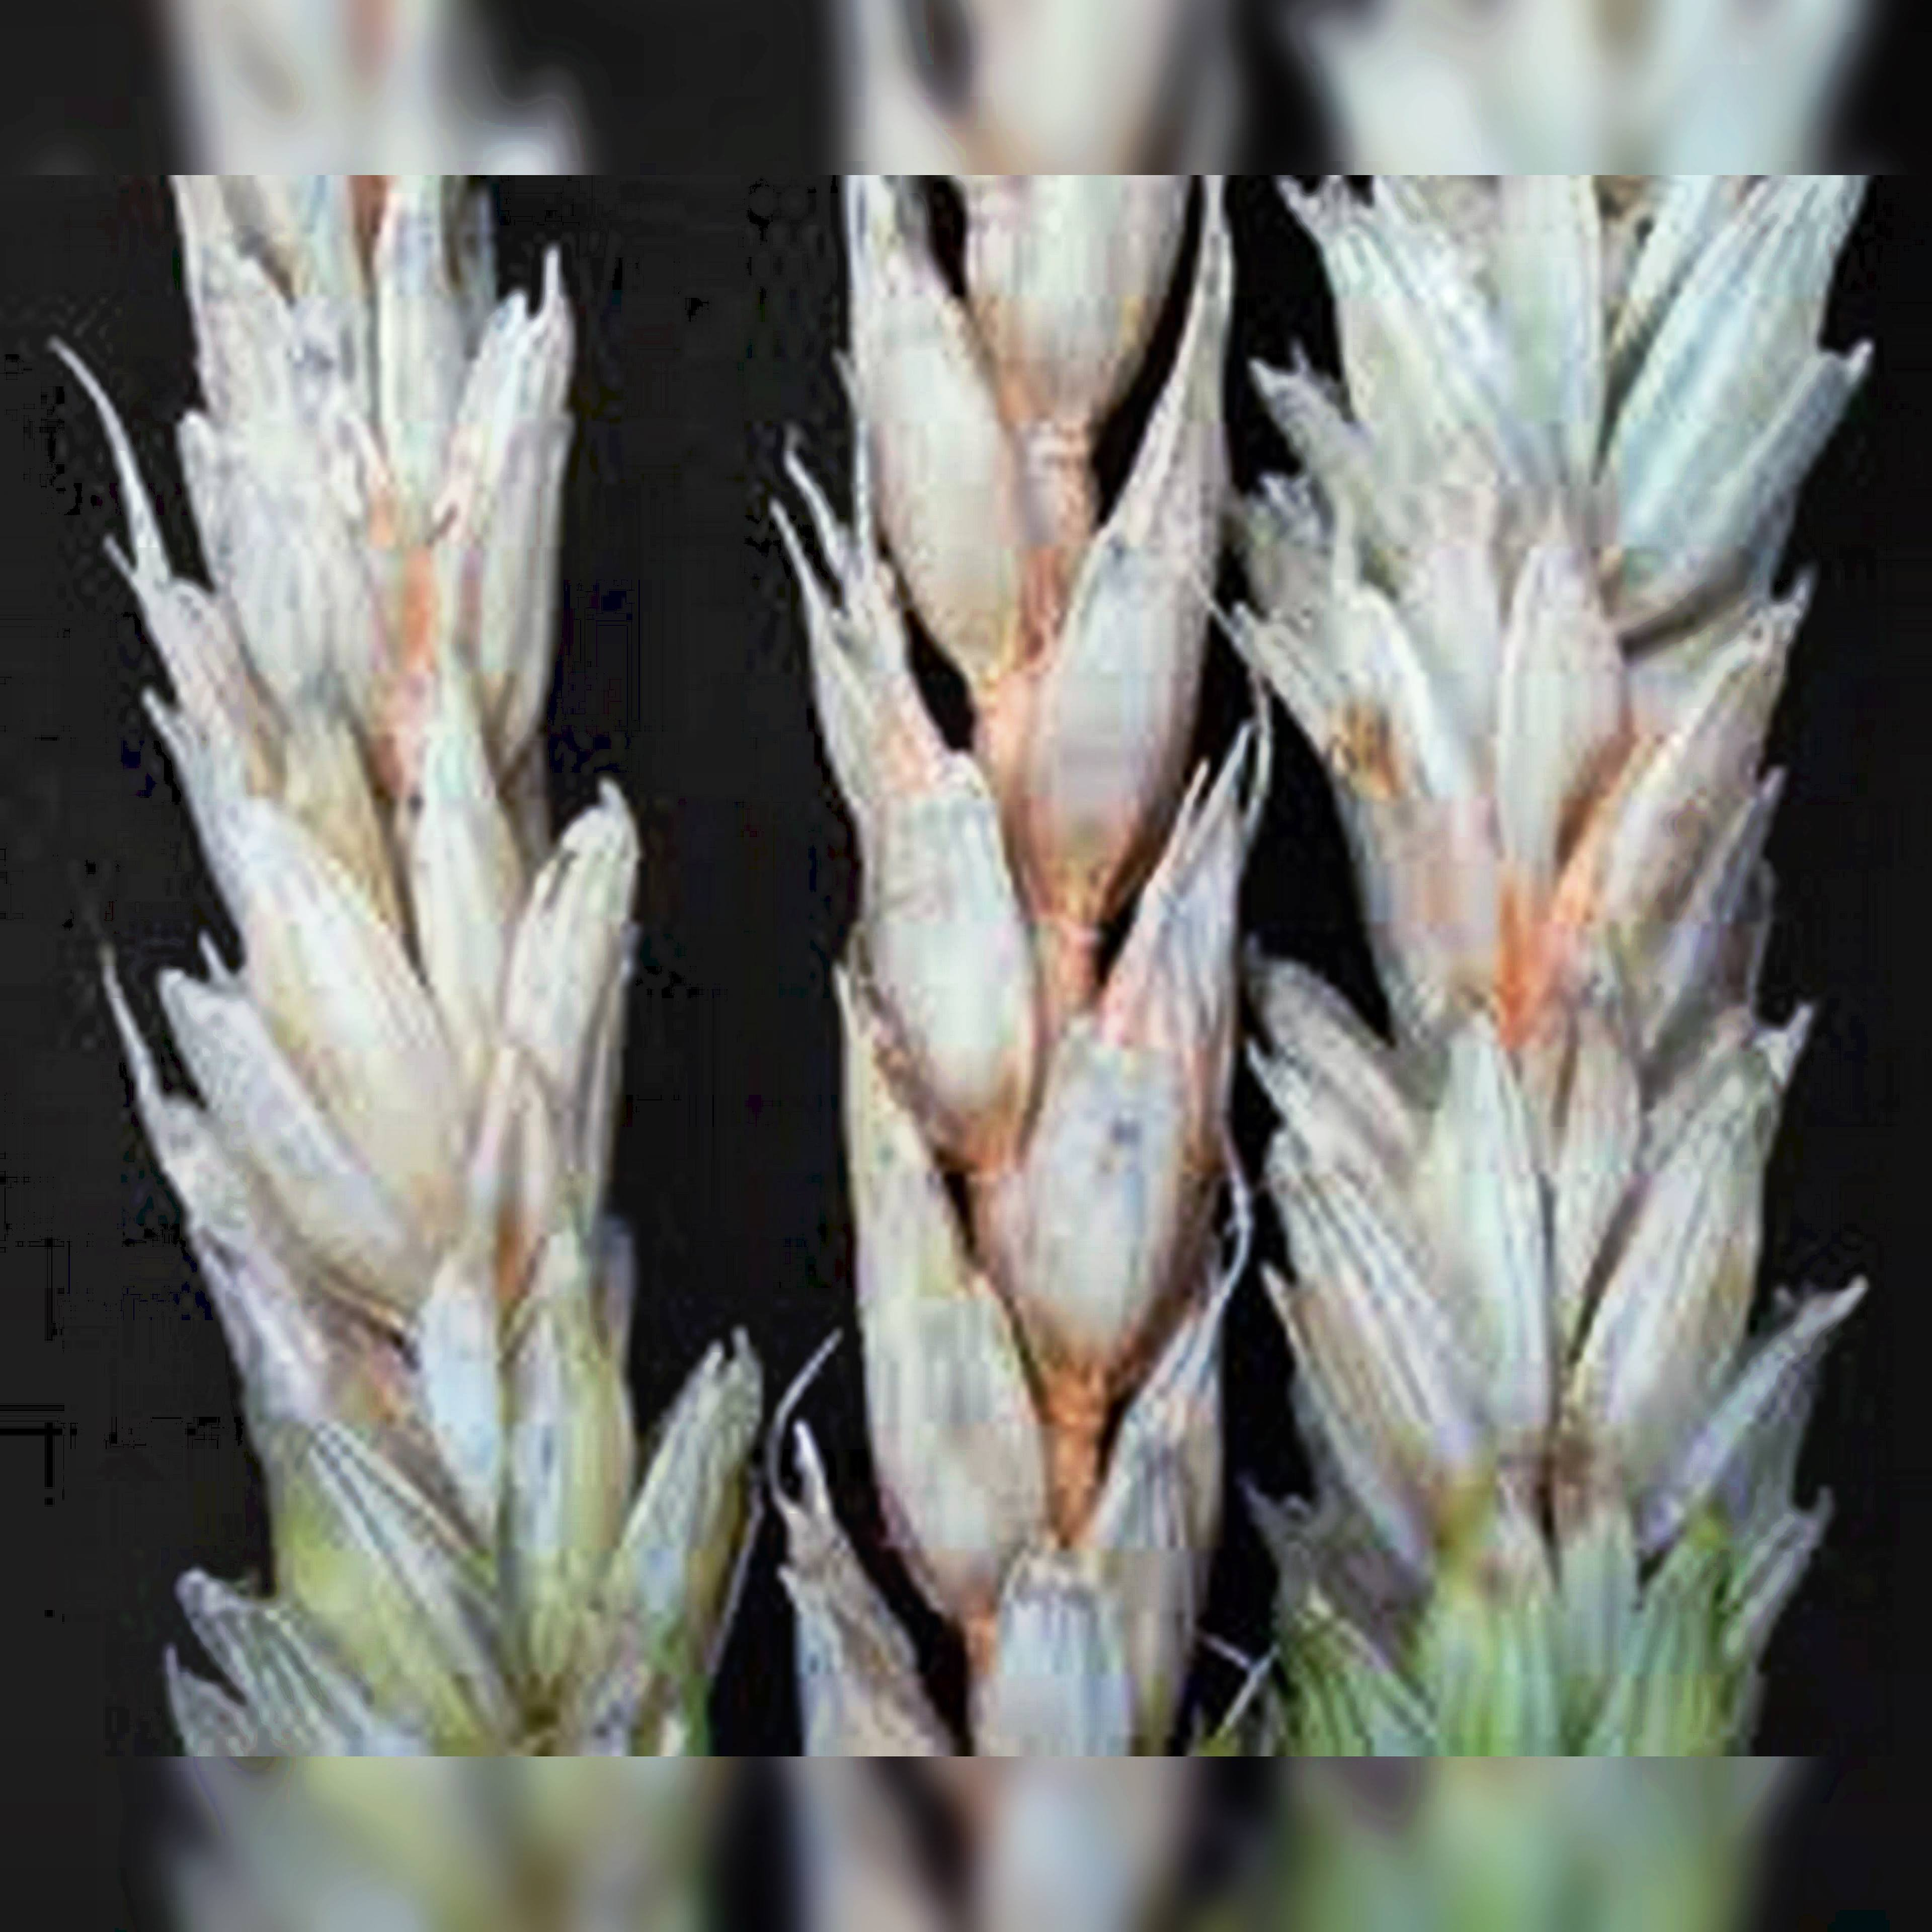Wheat scab: (1260, 212, 1838, 1759)
